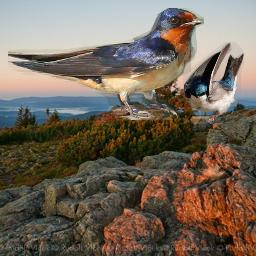Swallow: (8, 8, 204, 120), (183, 42, 244, 124)
